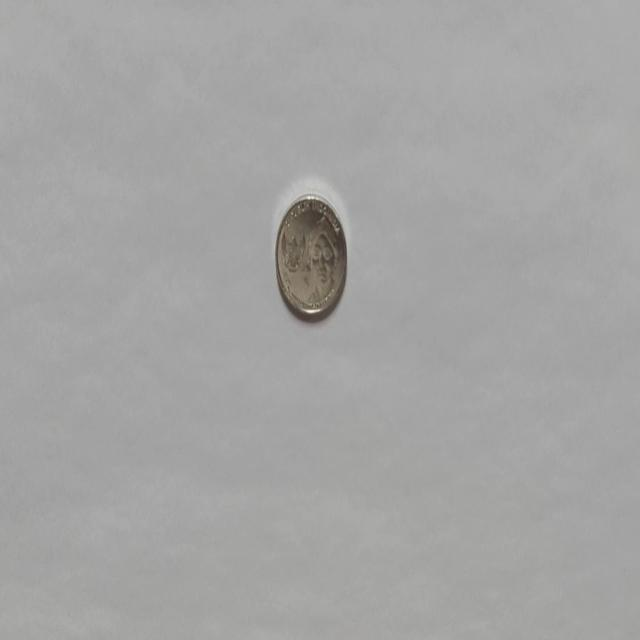dua ratus rupiah: (274, 191, 348, 321)
